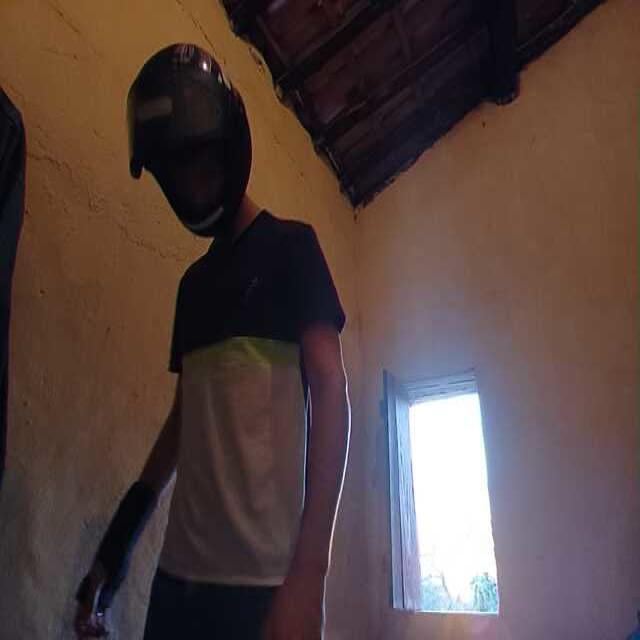capacete: (124, 43, 262, 223)
pessoa: (117, 42, 343, 640)
